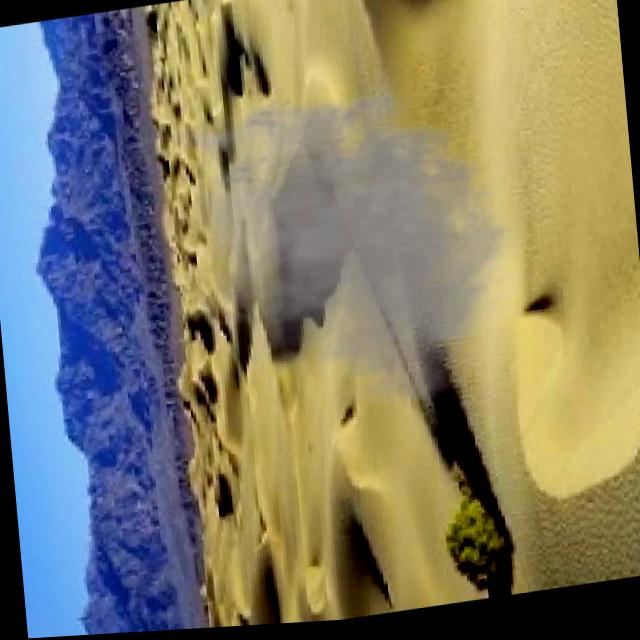no_helmet: (156, 53, 542, 449)
